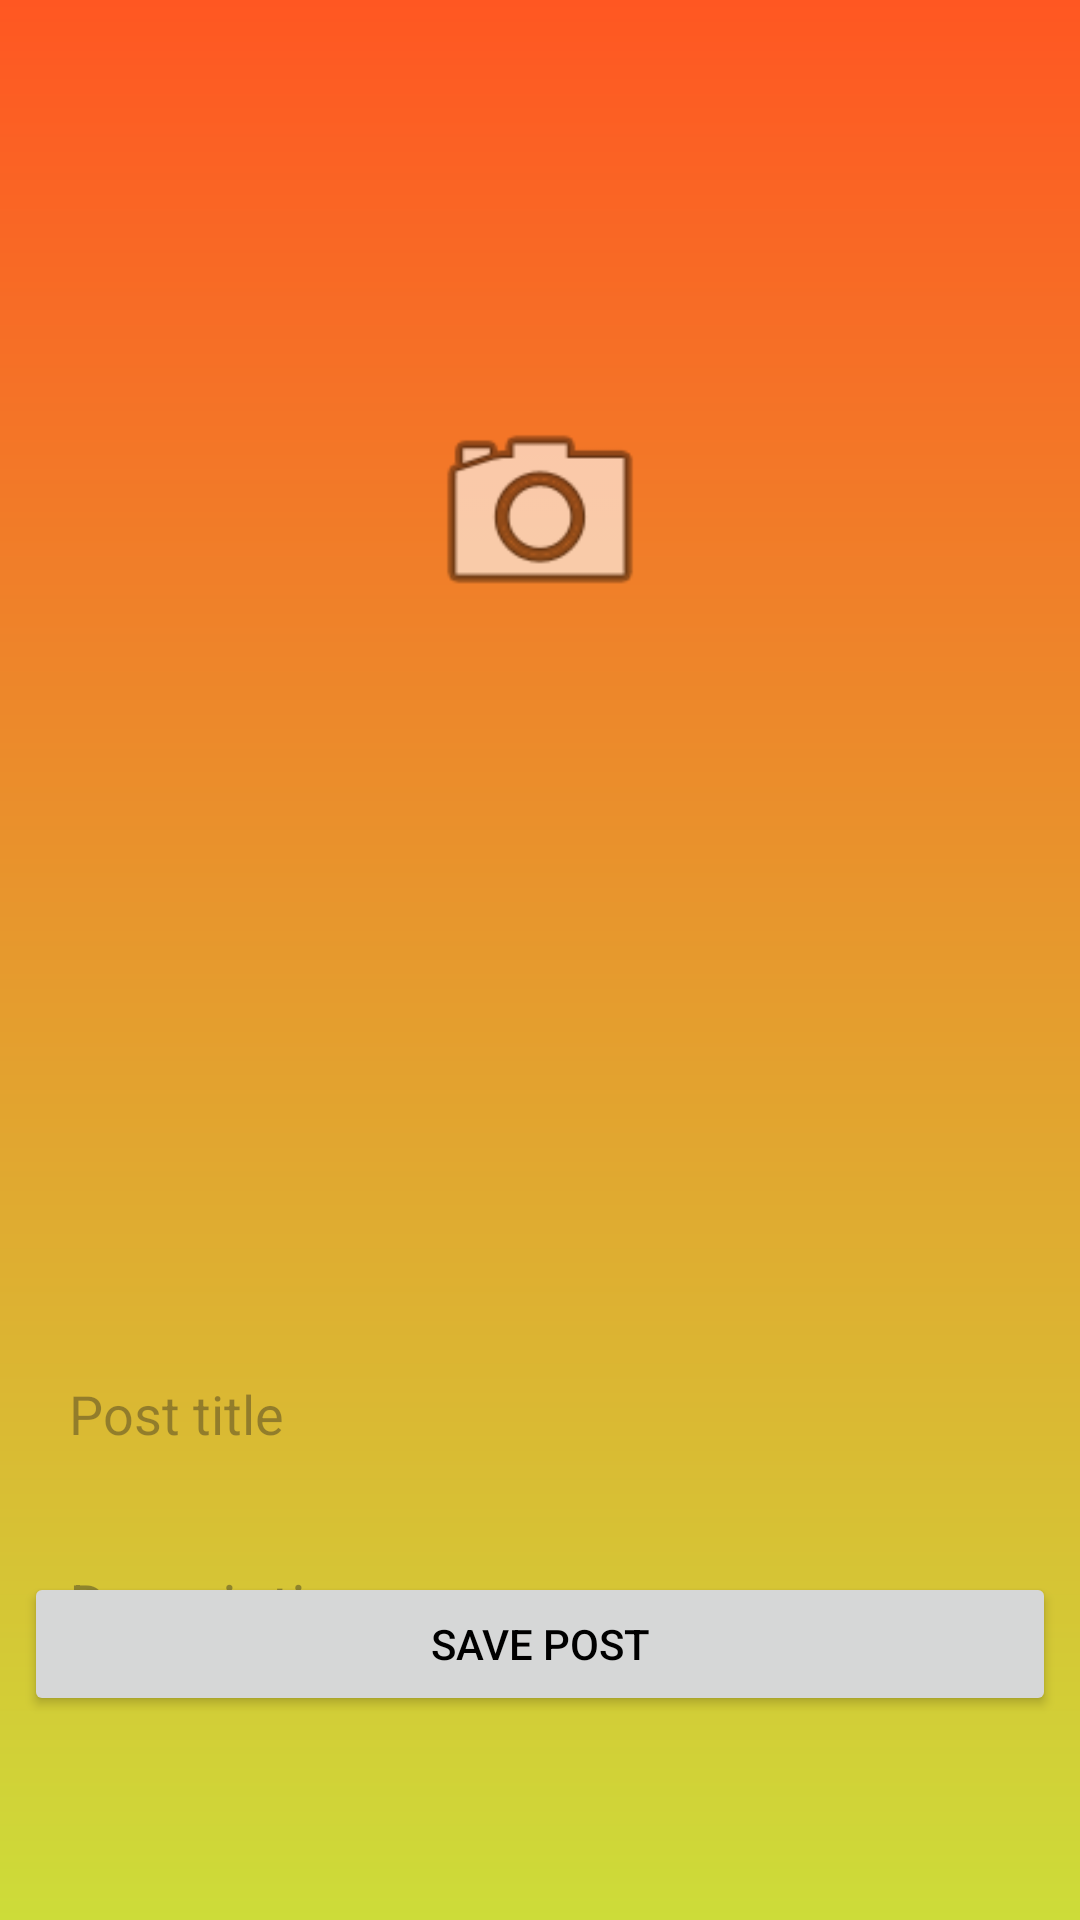

Screen size 1080x1920. Icon name, then its center in pixels as (x,y):
camera: (540,509)
